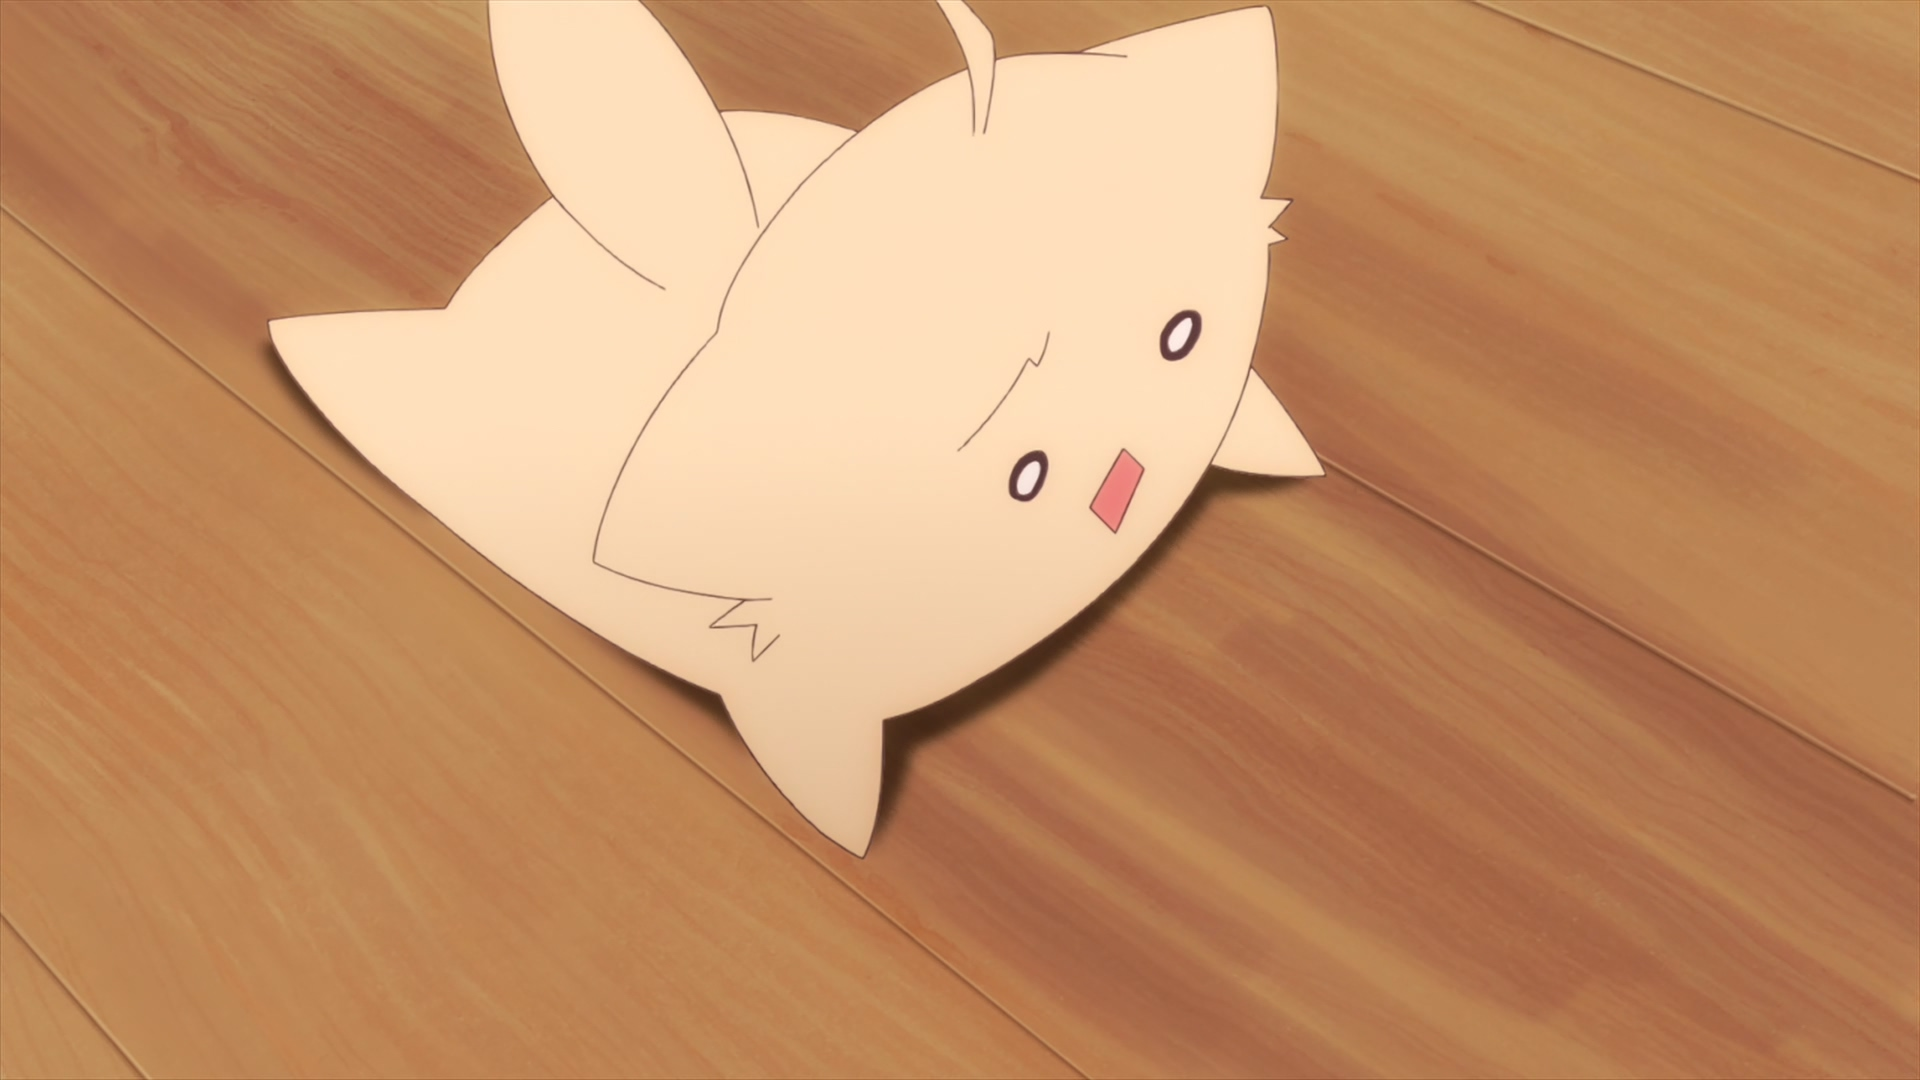柚: (266, 1, 1324, 860)
